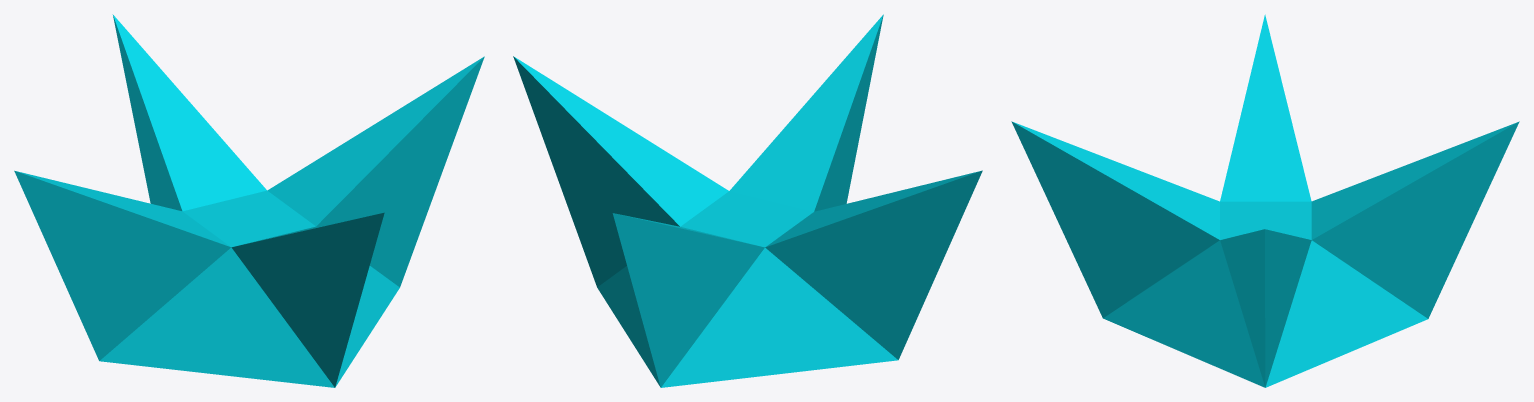
File: M_Powerup.fbx
The picture shows the model from 3 angles, left to right: view 1: azimuth 30°, elevation 25°; view 2: azimuth 150°, elevation 25°; view 3: azimuth 270°, elevation 25°; orthographic projection. The views are drawn at different scales.
Visible parts, largest first — view 1: Cube; view 2: Cube; view 3: Cube.
Boxes of the visible parts, x1=… form: Cube: x1=14, y1=14, x2=484, y2=387; Cube: x1=513, y1=14, x2=982, y2=387; Cube: x1=1011, y1=14, x2=1519, y2=387.
Bounding box in the file's own units: 245 × 105 × 245.
